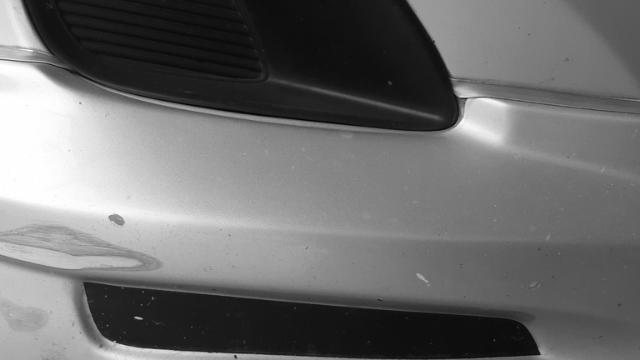Bumper: (0, 67, 640, 360)
